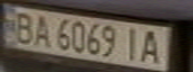0: (66, 19, 87, 54)
6: (84, 20, 106, 56), (51, 16, 72, 52)
9: (100, 22, 121, 58)
A: (136, 27, 169, 64), (30, 12, 54, 48)
B: (6, 8, 39, 44)
I: (121, 25, 145, 62)
